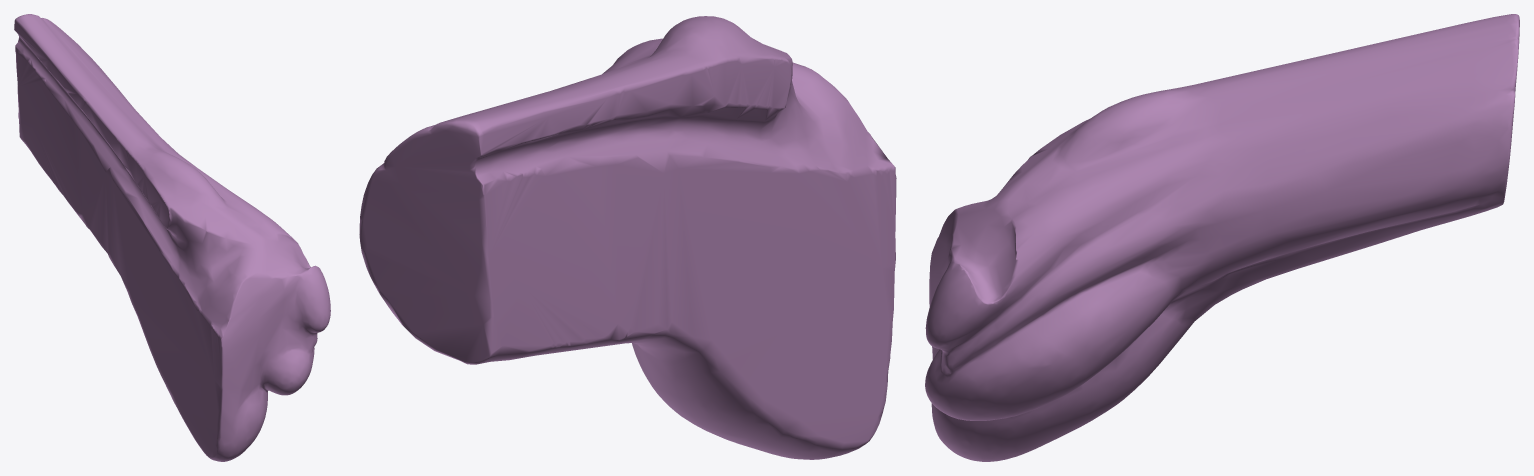
3 renders of one model, left to right at view 1: azimuth 30°, elevation 25°; view 2: azimuth 150°, elevation 25°; view 3: azimuth 270°, elevation 25°, orthographic. The views are drawn at different scales.
Parts seen in each view (by area): view 1: 左侧延髓; view 2: 左侧延髓; view 3: 左侧延髓.
Part boxes in pixels (box(x1,y1,x2,y2)): 左侧延髓: box(14, 14, 330, 461); 左侧延髓: box(359, 16, 896, 459); 左侧延髓: box(925, 14, 1519, 461).
Size of the model in its own units: 0.0191 by 0.0475 by 0.059.
